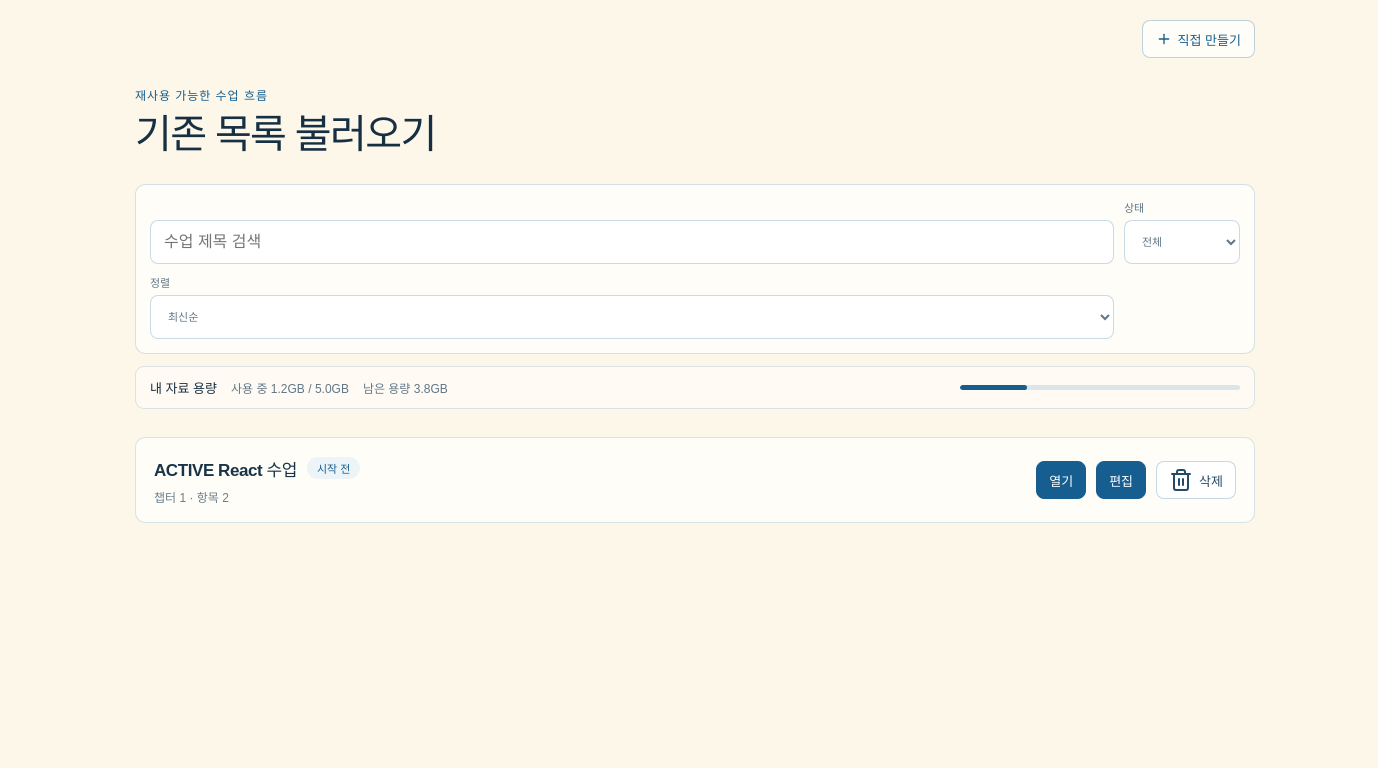
it: CloudCourseCatalogPage › 접근 가능한 강의방이 없을 때만 시작 전 상태로 표시하고, 열기는 생성 화면으로 이동한다
This screenshot has width=1378, height=768.
Expected: the heading "ACTIVE React 수업" is shown, 154,456 -> 297,480
Click the button "열기". click: point(1061, 480)
box: 1036,461 -> 1086,499
(page scrolled)
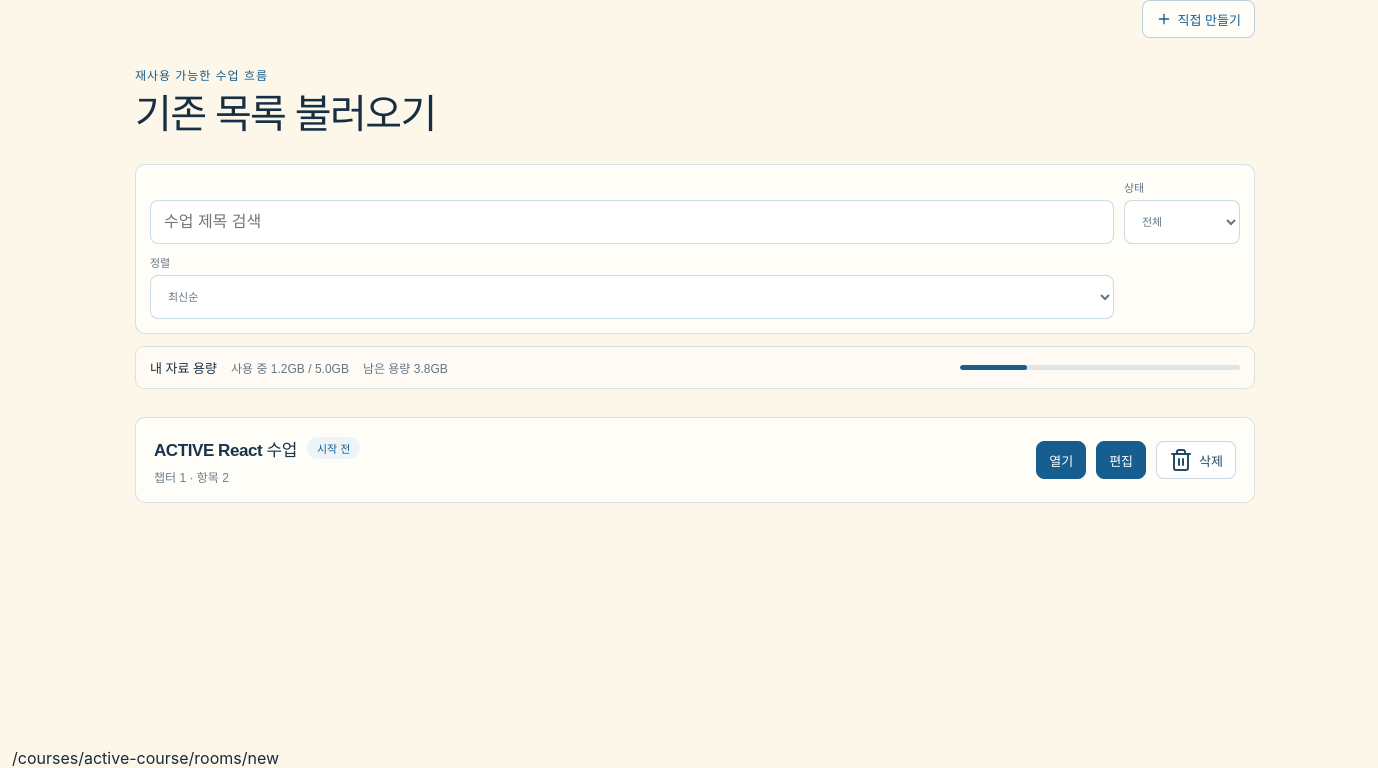
Expected: the text with test id "location" reads "/courses/active-course/rooms/new", 12,748 -> 279,767
